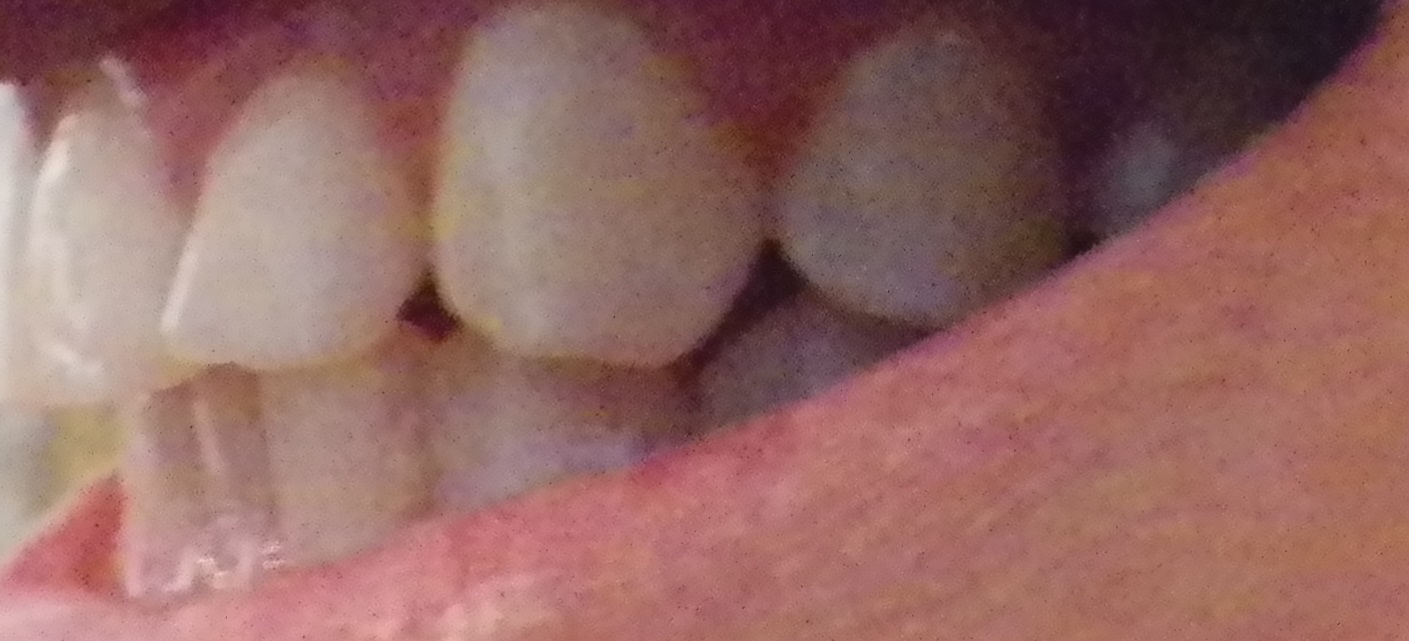boca: (31, 36, 1211, 576)
